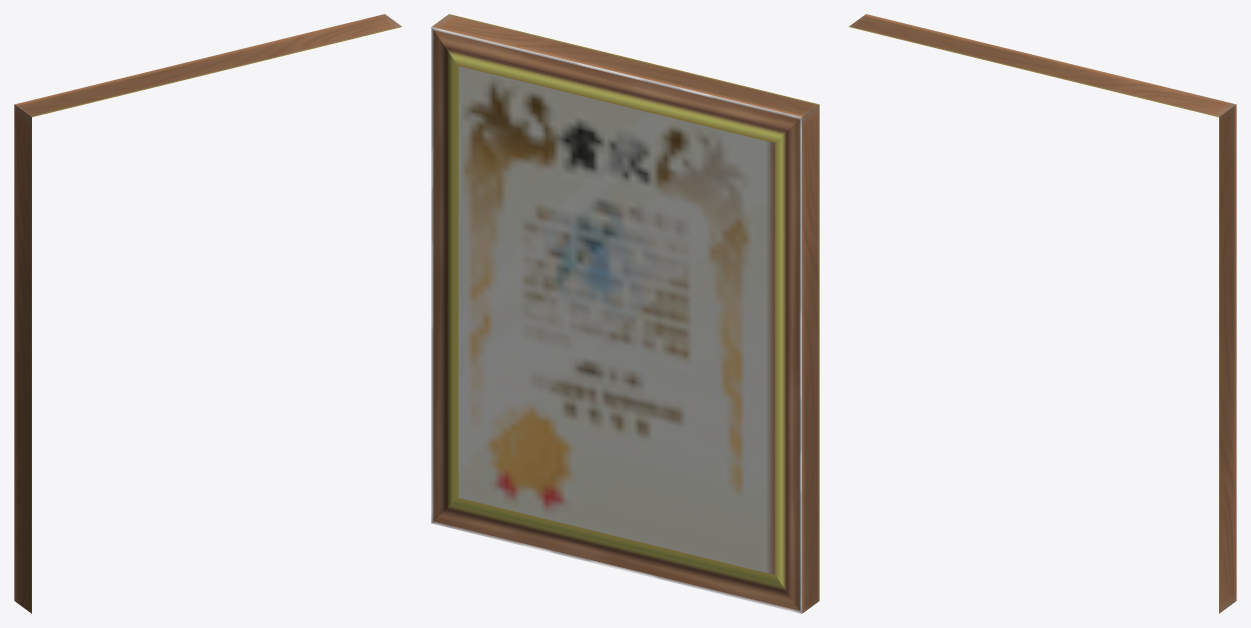
File: a_SWAtestimonial01.glb
3 renders of one model, left to right at view 1: azimuth 30°, elevation 25°; view 2: azimuth 150°, elevation 25°; view 3: azimuth 330°, elevation 25°, orthographic.
Parts seen in each view (by area): view 1: a_SWAtestimonial01; view 2: a_SWAtestimonial01; view 3: a_SWAtestimonial01.
Boxes of the visible parts, <box> form: a_SWAtestimonial01: <box>14,14,401,613</box>; a_SWAtestimonial01: <box>431,14,819,613</box>; a_SWAtestimonial01: <box>849,14,1236,613</box>.
Size of the model in its own units: 0.388 by 0.4971 by 0.0321.
1 material, 1 textured.
